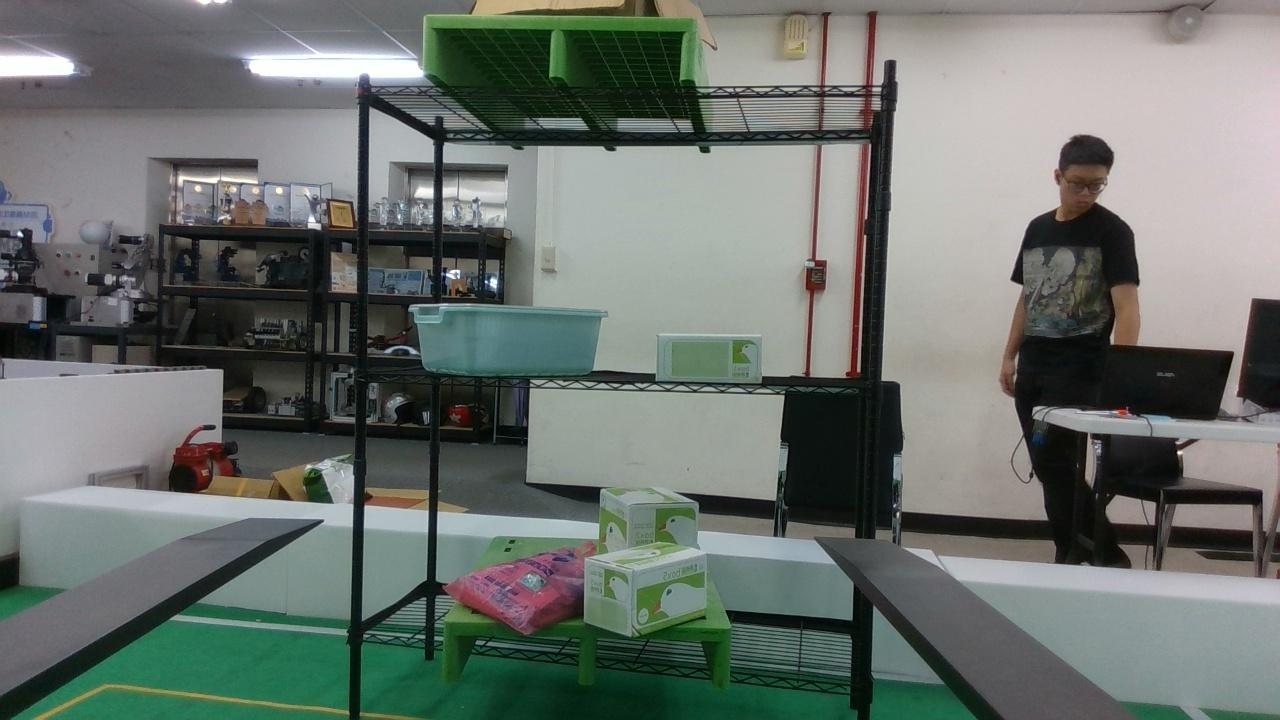Pallet: (442, 620, 732, 687), (422, 16, 699, 82)
